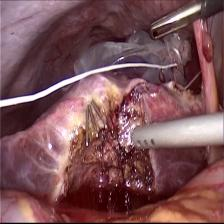Irrigator: (131, 117, 166, 154)
Specimen Bag: (66, 32, 203, 90)
